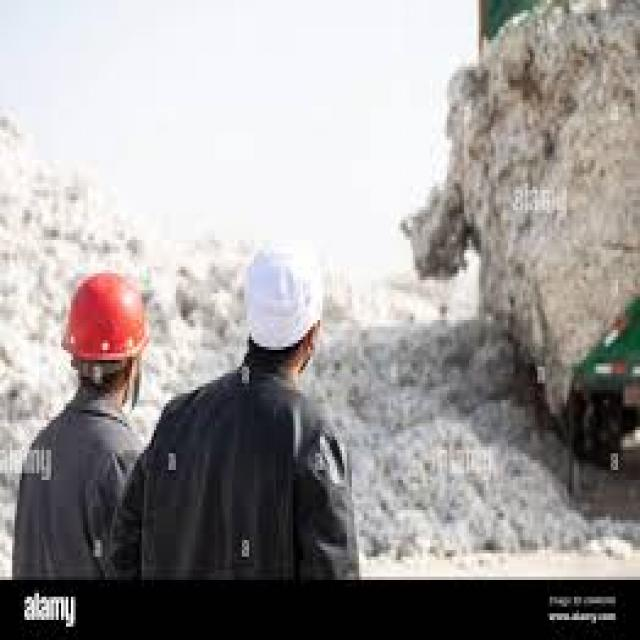Safety-Helmet: (46, 256, 164, 386)
